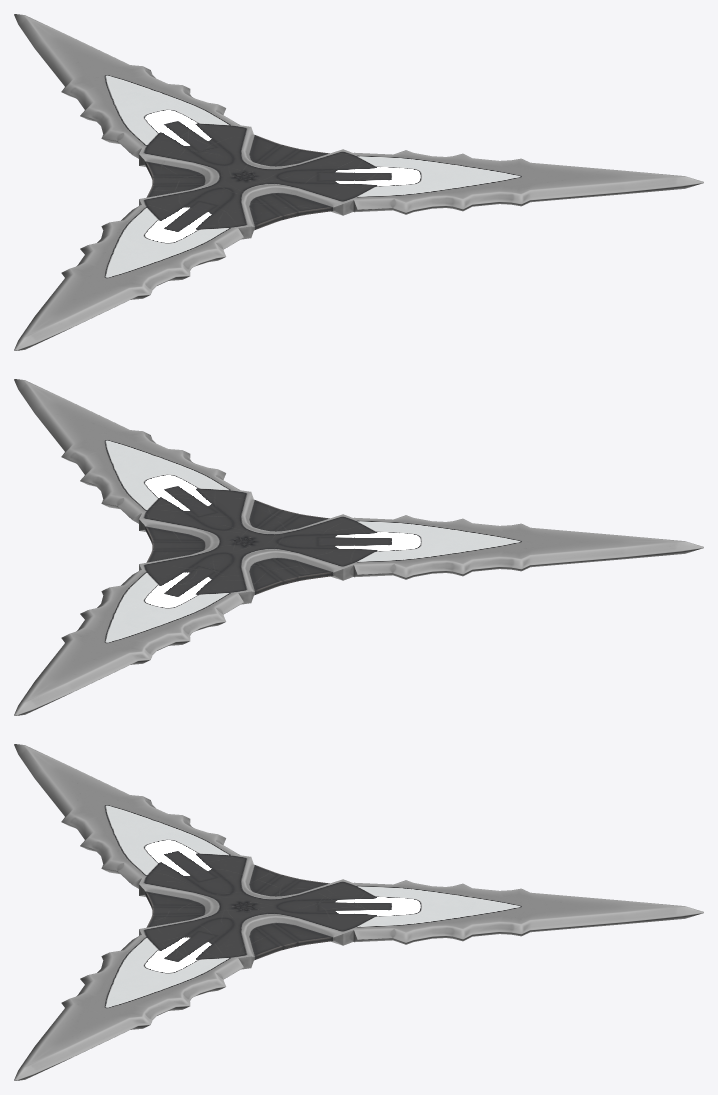
File: MeleeShuriken02.FBX
3 renders of one model, top to bottom at view 1: azimuth 30°, elevation 25°; view 2: azimuth 150°, elevation 25°; view 3: azimuth 270°, elevation 25°, orthographic.
Visible parts, largest first — view 1: MeleeShuriken02; view 2: MeleeShuriken02; view 3: MeleeShuriken02.
Boxes of the visible parts, x1,y1,x2,y2 form: MeleeShuriken02: (14,14,703,350); MeleeShuriken02: (14,379,703,715); MeleeShuriken02: (14,744,703,1080).
Size of what is drawn, in the model's own units: 0.2566 by 0.00419 by 0.2223.
